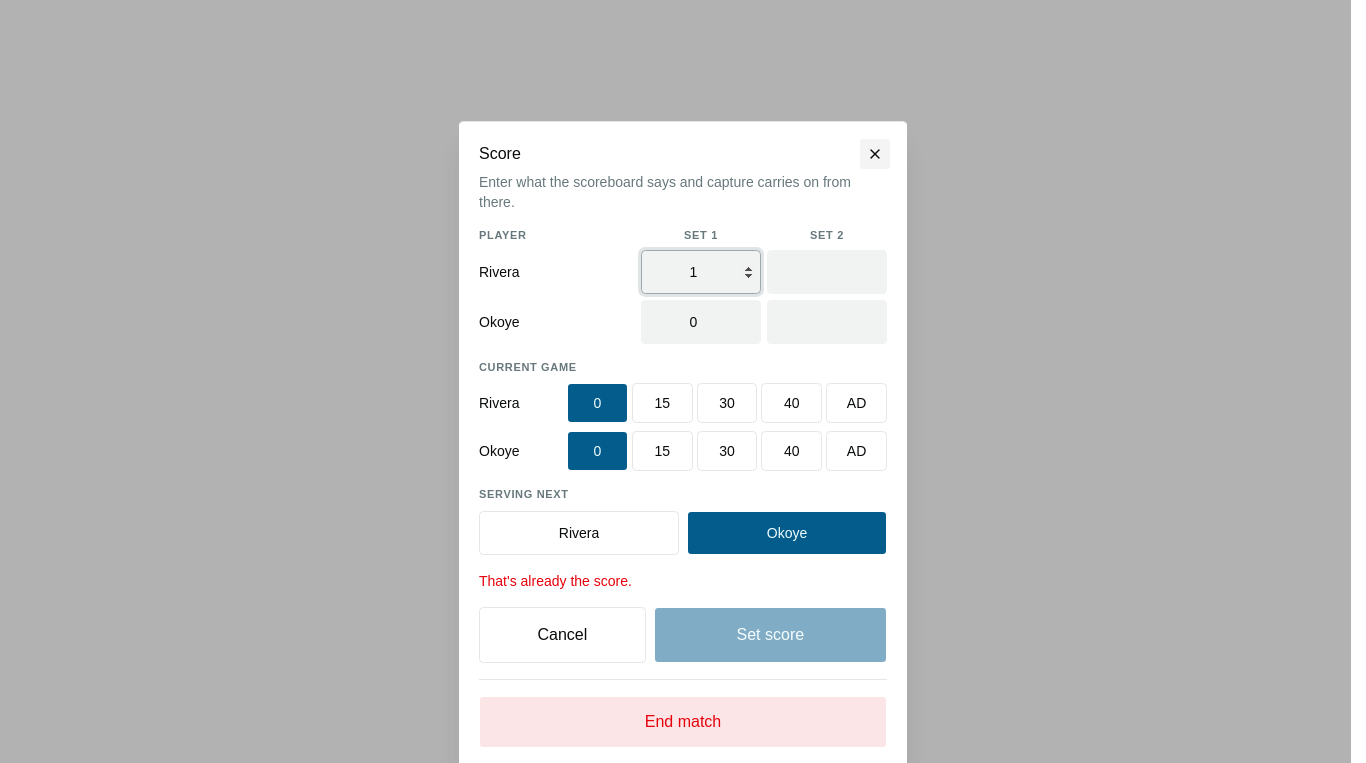
Test: with points already recorded, a disagreeing answer names both causes
The image size is (1366, 763).
Click the button "Rivera" at [579, 533], box [479,511,679,555]
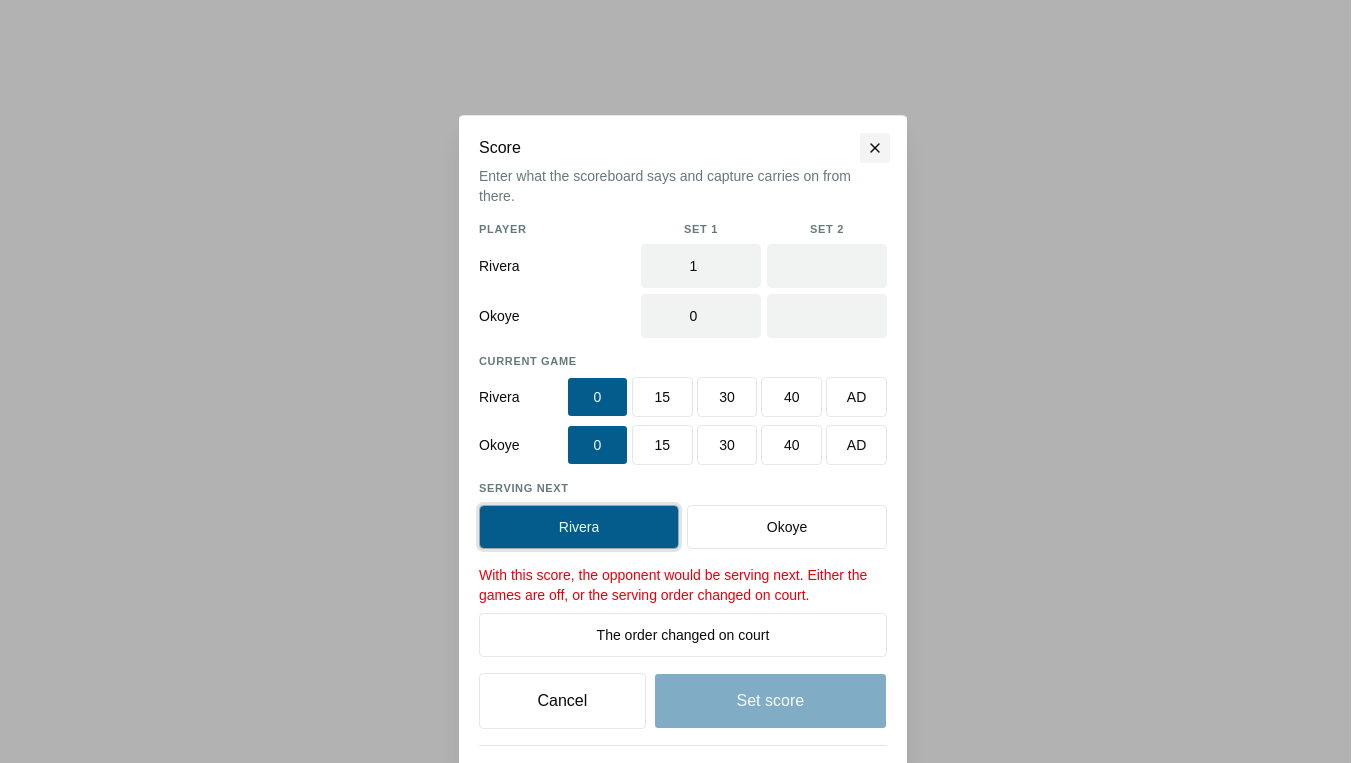
Expected: the button "Set score" is disabled, [654,673,887,729]
Expected: the text "Either the games are off, or the serving order changed on court" is shown, [479,567,867,603]
